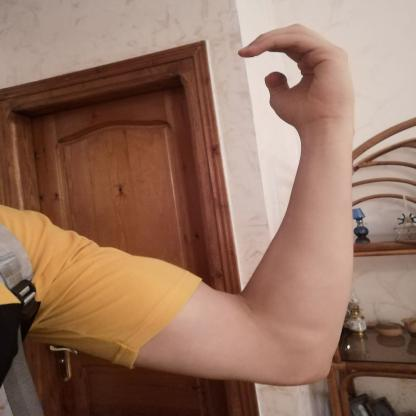JEEM: (223, 15, 368, 140)
